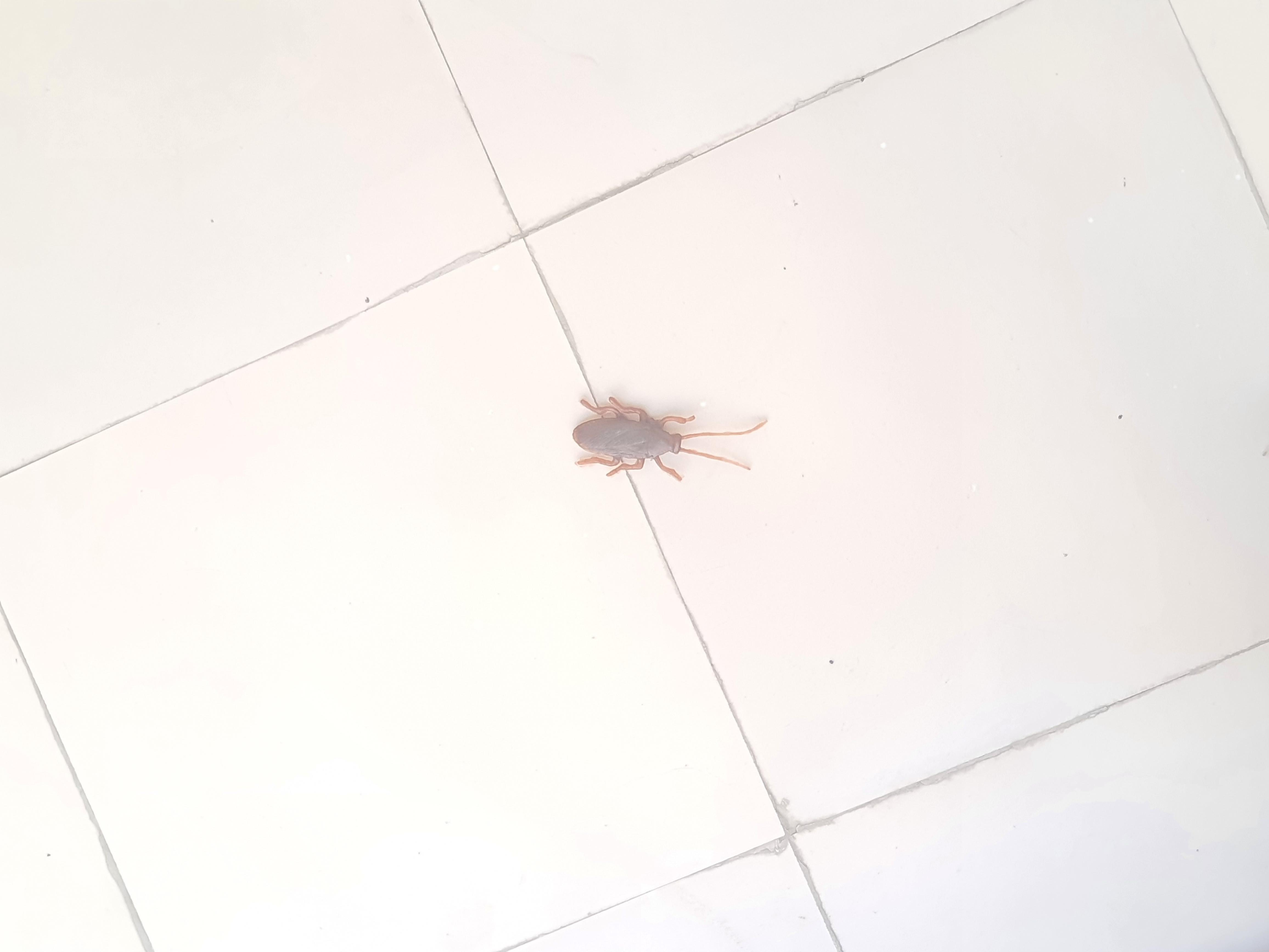cockroach: (623, 419, 737, 574)
